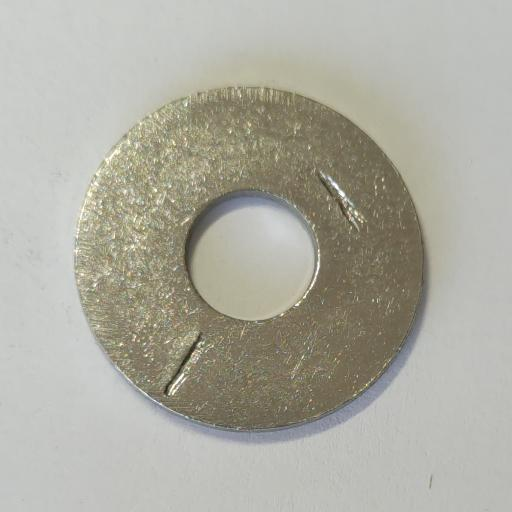scratch: (318, 170, 368, 234), (163, 333, 206, 396)
